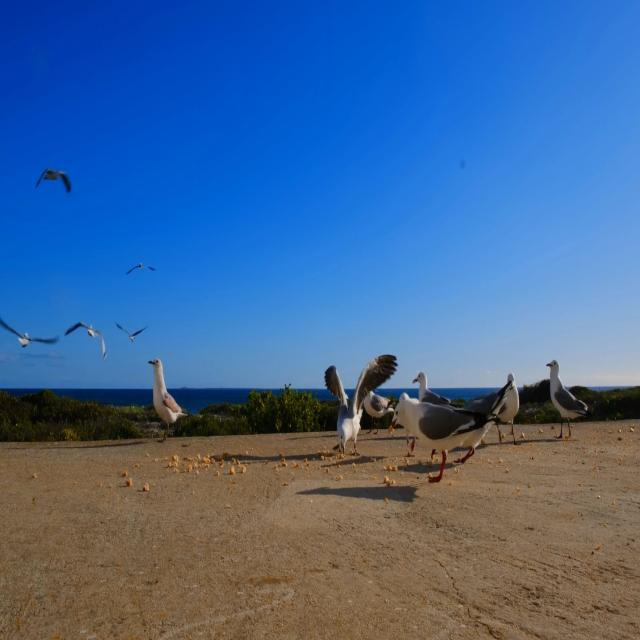bird: (316, 346, 397, 475), (386, 392, 492, 484), (541, 348, 593, 438), (145, 352, 195, 440), (493, 370, 526, 446), (34, 146, 74, 208), (0, 318, 62, 357), (62, 312, 109, 360), (114, 317, 153, 346), (123, 255, 161, 278)
